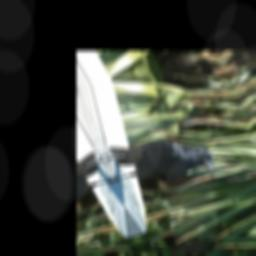Crow: (101, 123, 219, 195)
